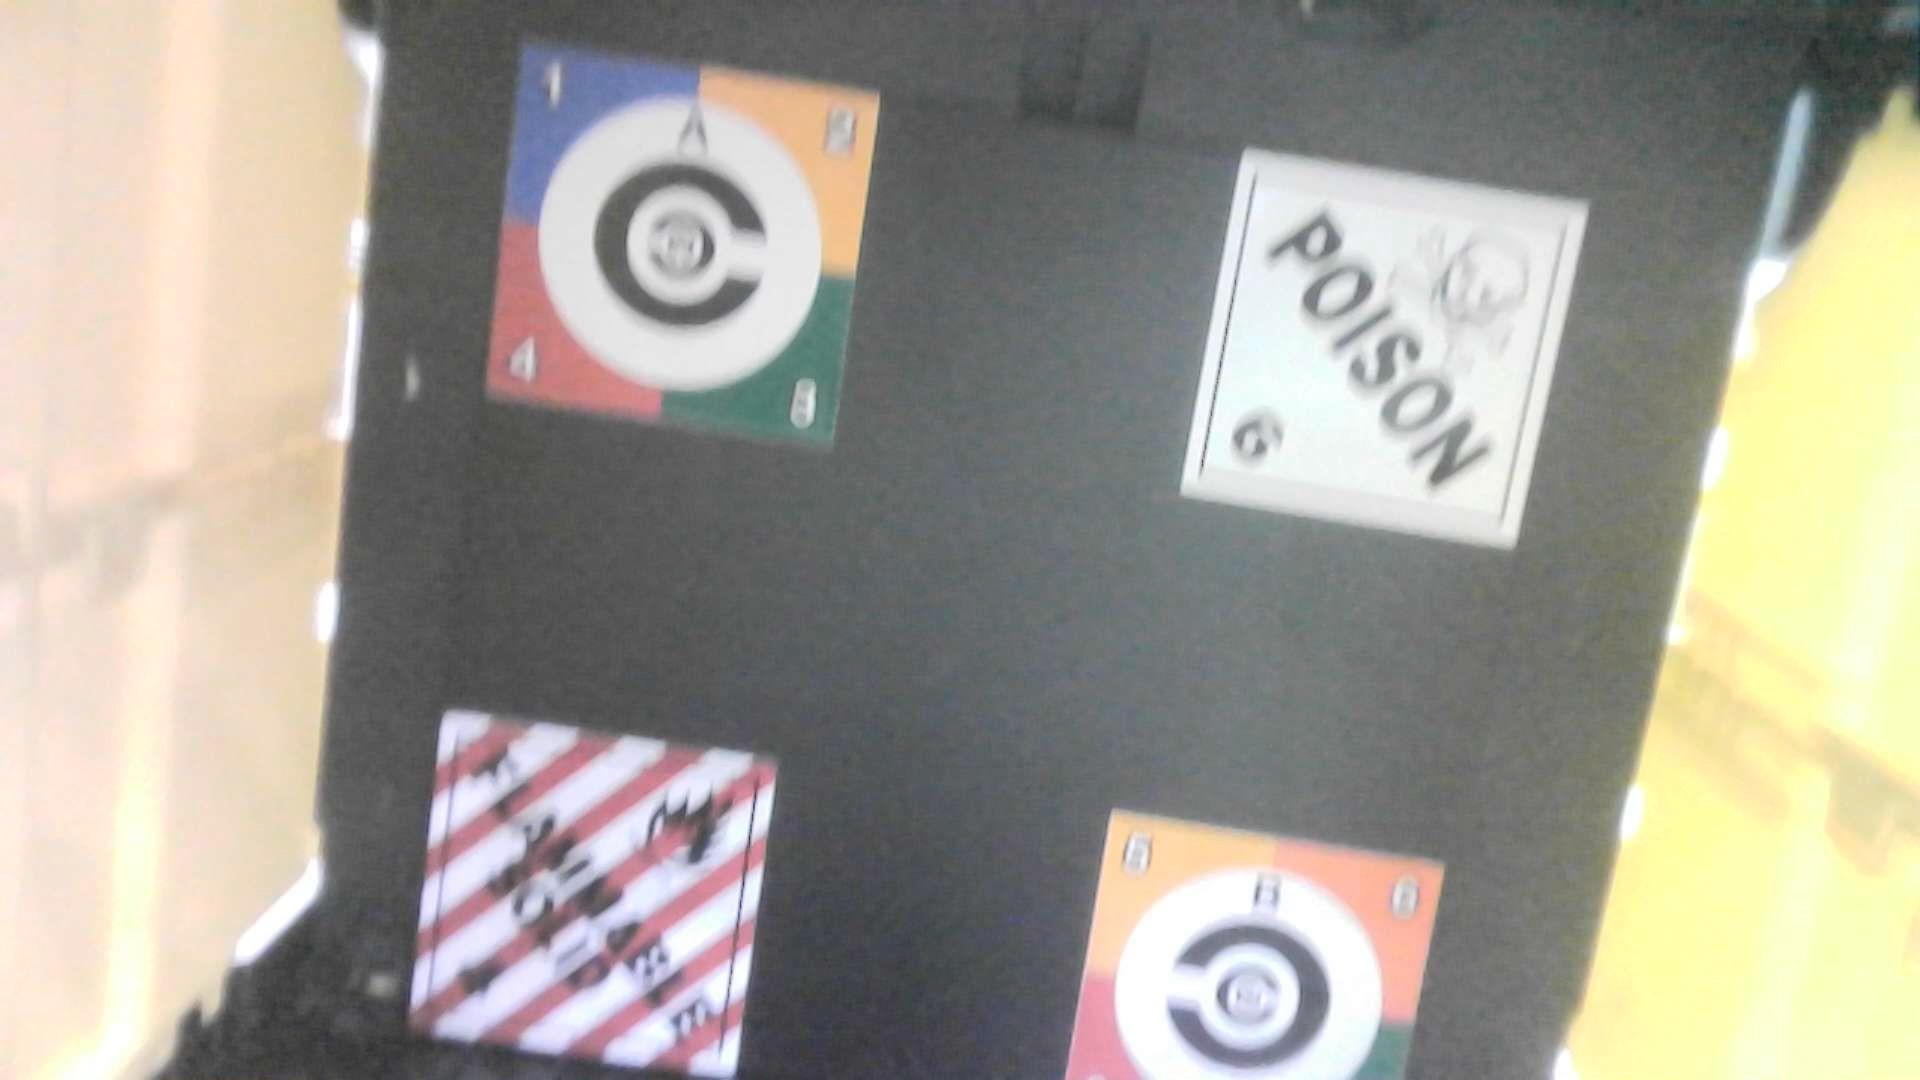flammable-solid: (392, 707, 786, 1080)
poison: (1174, 146, 1586, 549)
